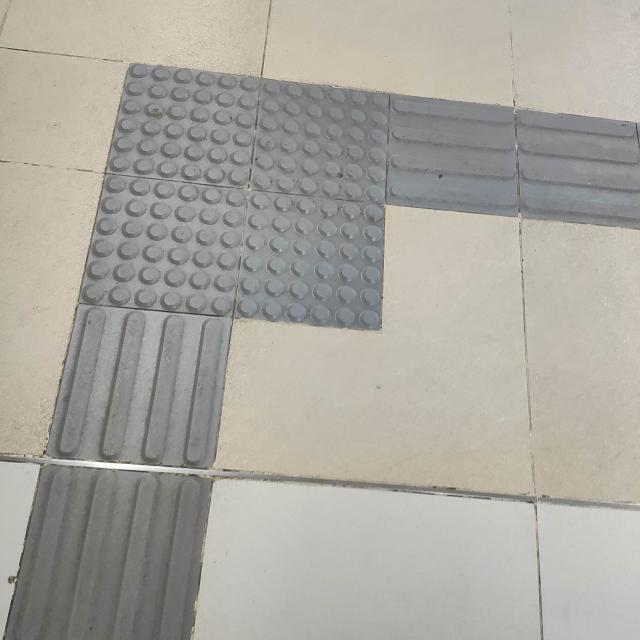kanan: (24, 2, 603, 376)
